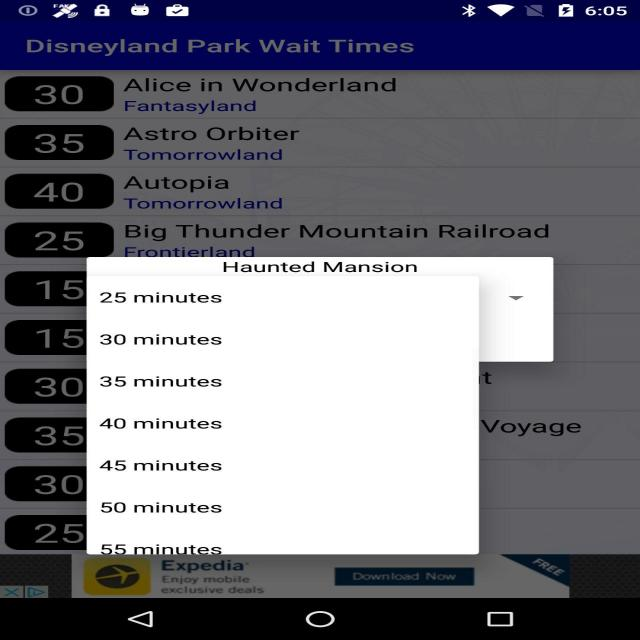icon: (5, 1, 638, 20), (463, 600, 542, 638), (97, 606, 182, 635), (284, 605, 359, 633)
image: (76, 553, 176, 595)
text: (3, 117, 453, 164), (7, 214, 574, 248), (16, 28, 440, 69), (5, 73, 431, 113), (10, 169, 372, 210), (208, 253, 427, 281), (88, 323, 242, 362), (91, 279, 229, 321), (91, 487, 231, 527), (93, 368, 238, 404), (88, 451, 246, 483), (101, 410, 238, 438), (97, 533, 244, 559), (480, 413, 597, 442), (20, 268, 91, 304), (21, 370, 101, 401), (22, 464, 98, 496), (28, 506, 76, 553), (22, 317, 84, 350), (31, 420, 82, 450)
